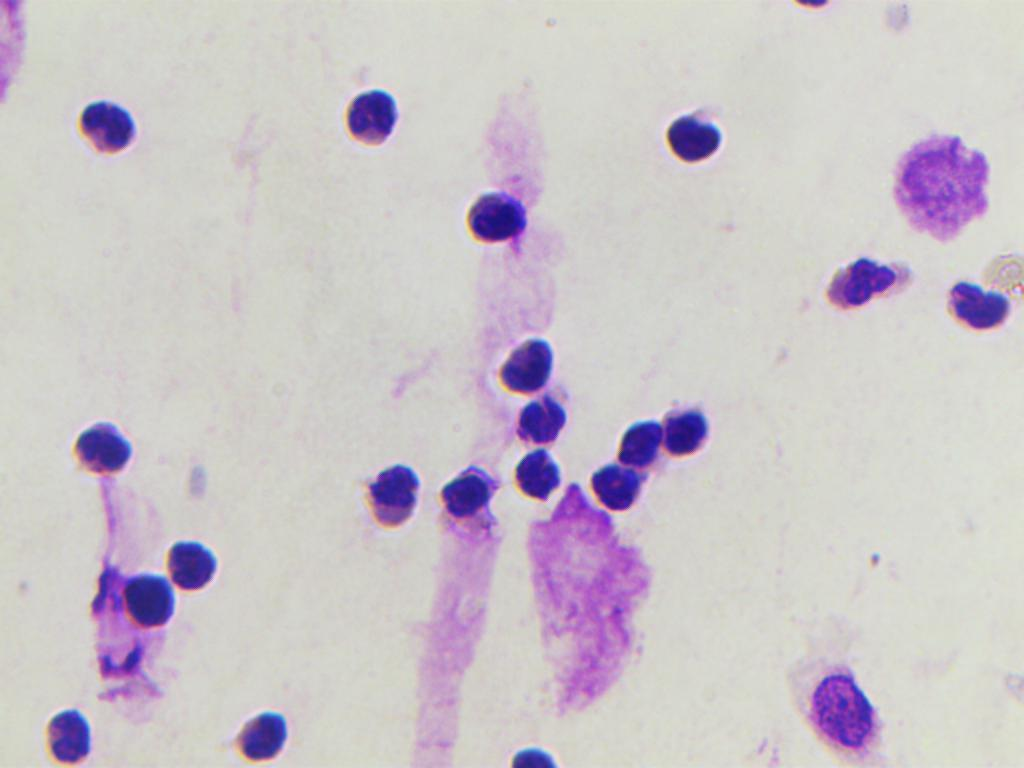epithelial: (779, 658, 910, 762), (894, 140, 991, 236)
erythrocyte: (986, 251, 1024, 296)
neutrophil: (825, 234, 909, 332), (653, 386, 734, 472), (457, 184, 540, 258), (227, 700, 310, 768), (359, 456, 424, 542), (429, 458, 498, 532), (33, 700, 110, 762), (949, 272, 1016, 342), (73, 95, 142, 160), (505, 446, 574, 510), (493, 335, 564, 395), (587, 454, 652, 518), (517, 394, 584, 456), (663, 104, 726, 169), (71, 415, 135, 478), (341, 84, 401, 151), (123, 566, 176, 628), (166, 536, 220, 591)
